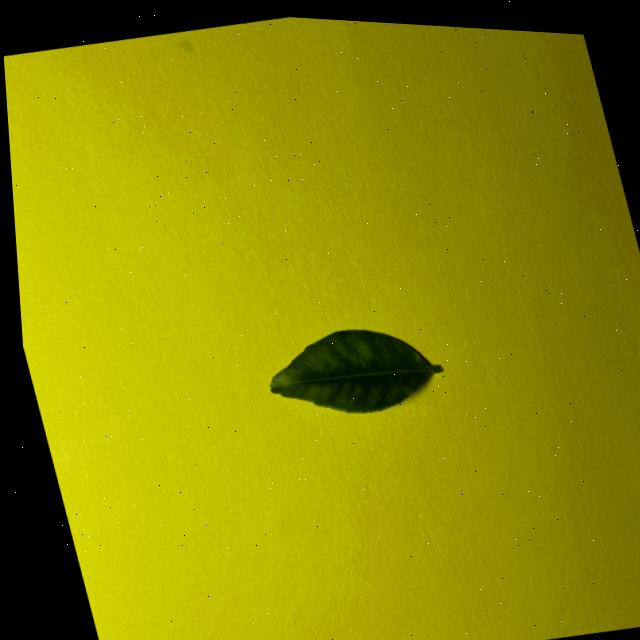greening: (270, 330, 442, 413)
